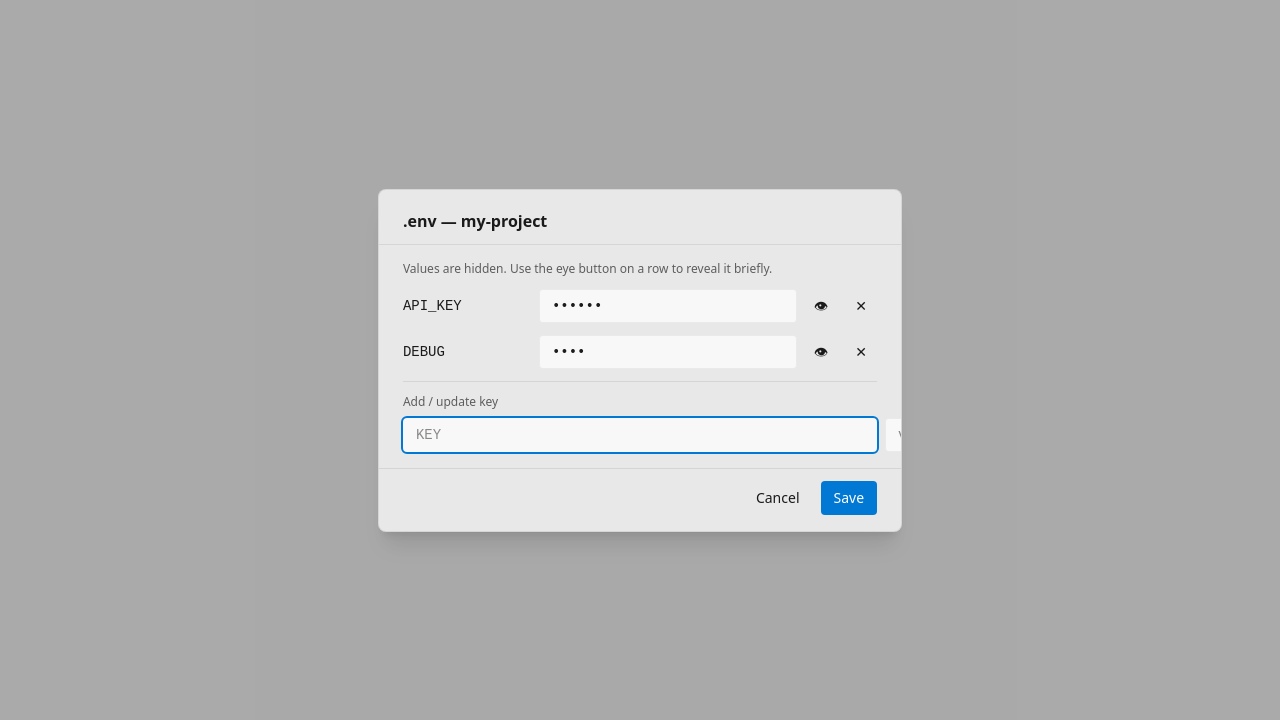
Test: EnvEditorDialog › can remove a key
The width and height of the screenshot is (1280, 720).
Expected: the text "API_KEY" is shown, x1=403 y1=298 x2=462 y2=314
Click the button named "Remove API_KEY": (861, 306) x1=845 y1=290 x2=877 y2=322
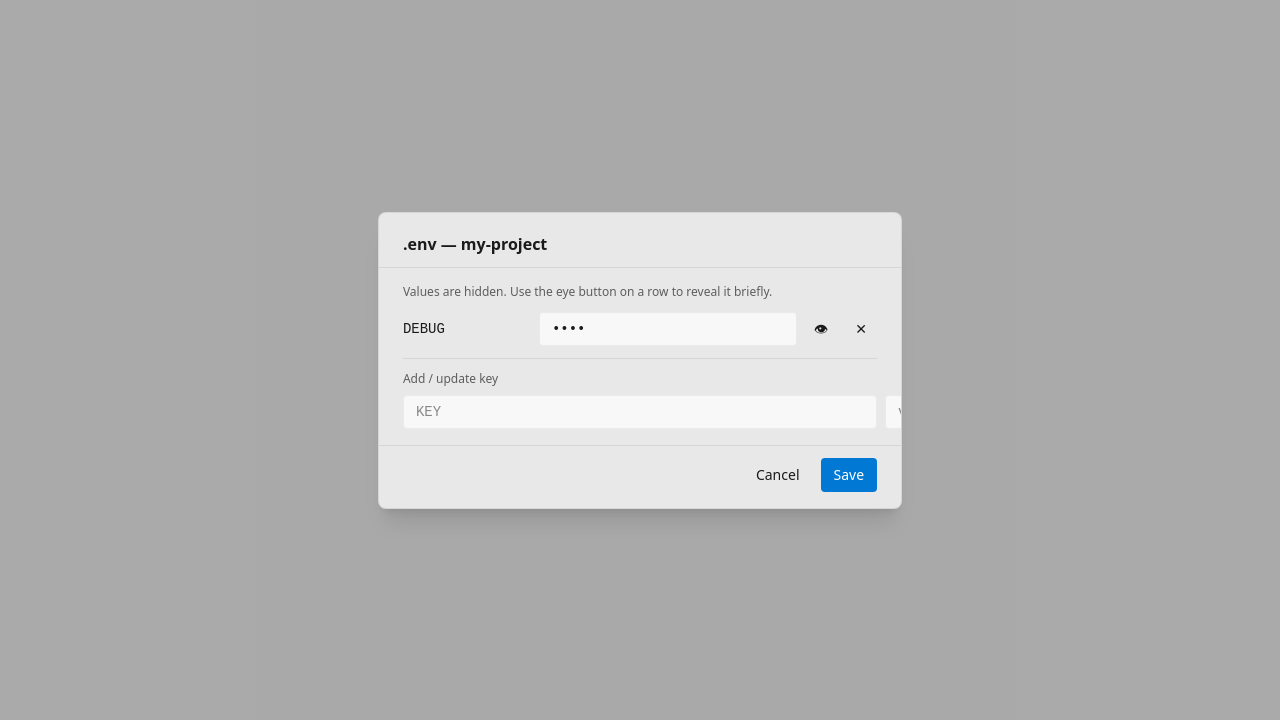
Now the text "API_KEY" is gone
